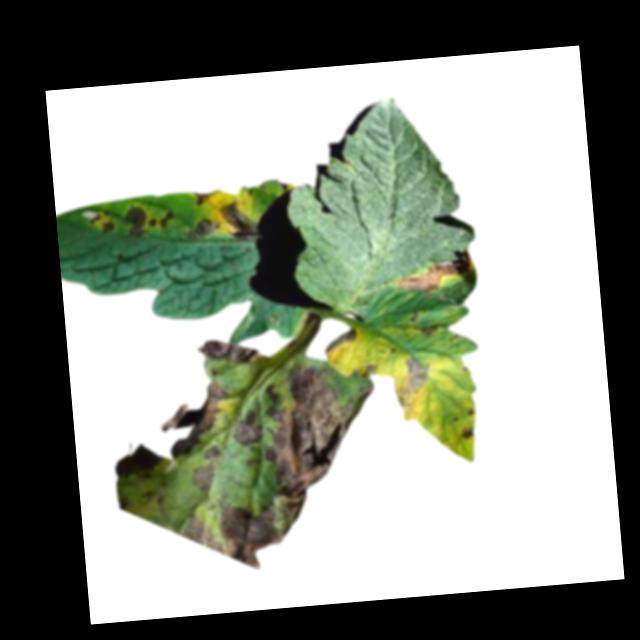Early_blight: (251, 356, 362, 500), (181, 496, 299, 576), (156, 376, 235, 458), (391, 245, 476, 294), (194, 330, 256, 369), (391, 354, 431, 409), (107, 438, 163, 476), (217, 199, 258, 244), (232, 405, 266, 448), (80, 204, 117, 235), (187, 461, 217, 499), (324, 324, 358, 352), (121, 201, 145, 239), (181, 216, 213, 242), (145, 206, 175, 232), (189, 185, 216, 207), (360, 360, 377, 377), (459, 421, 474, 440)
